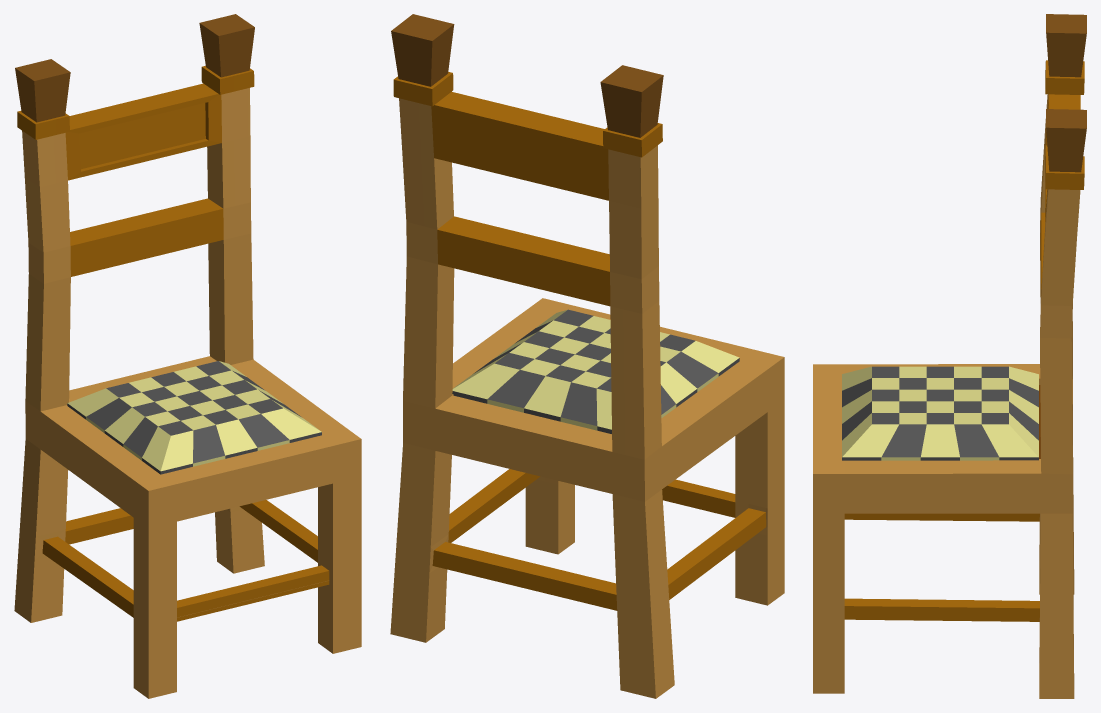
The model's file is Chair.fbx.
3 views of the same model, side by side, from view 1: azimuth 30°, elevation 25°; view 2: azimuth 150°, elevation 25°; view 3: azimuth 270°, elevation 25° (orthographic). The views are drawn at different scales.
Parts seen in each view (by area): view 1: Chair; view 2: Chair; view 3: Chair.
Part boxes in pixels (left/top/right/bottom): Chair: left=14, top=14, right=361, bottom=698; Chair: left=390, top=14, right=784, bottom=698; Chair: left=813, top=14, right=1086, bottom=698.
Bounding box in the file's own units: 2.11 × 2.02 × 4.63.
